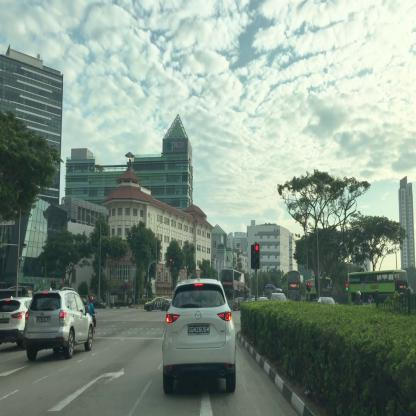red_traffic_light: (254, 242, 260, 269)
